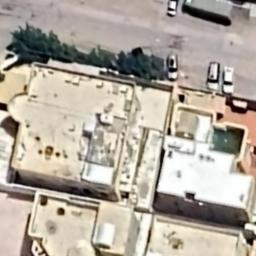SUV: (206, 60, 221, 92), (166, 53, 180, 84), (222, 64, 235, 96)
sedan: (166, 0, 179, 18)
